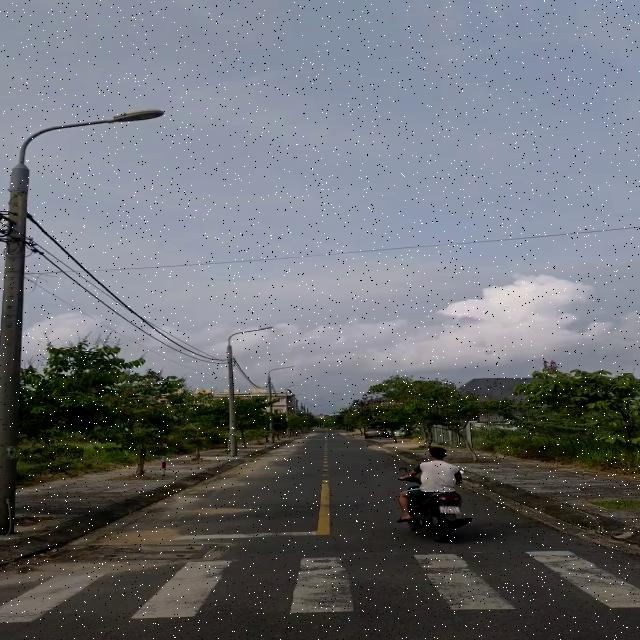no_helmet: (421, 443, 454, 462)
